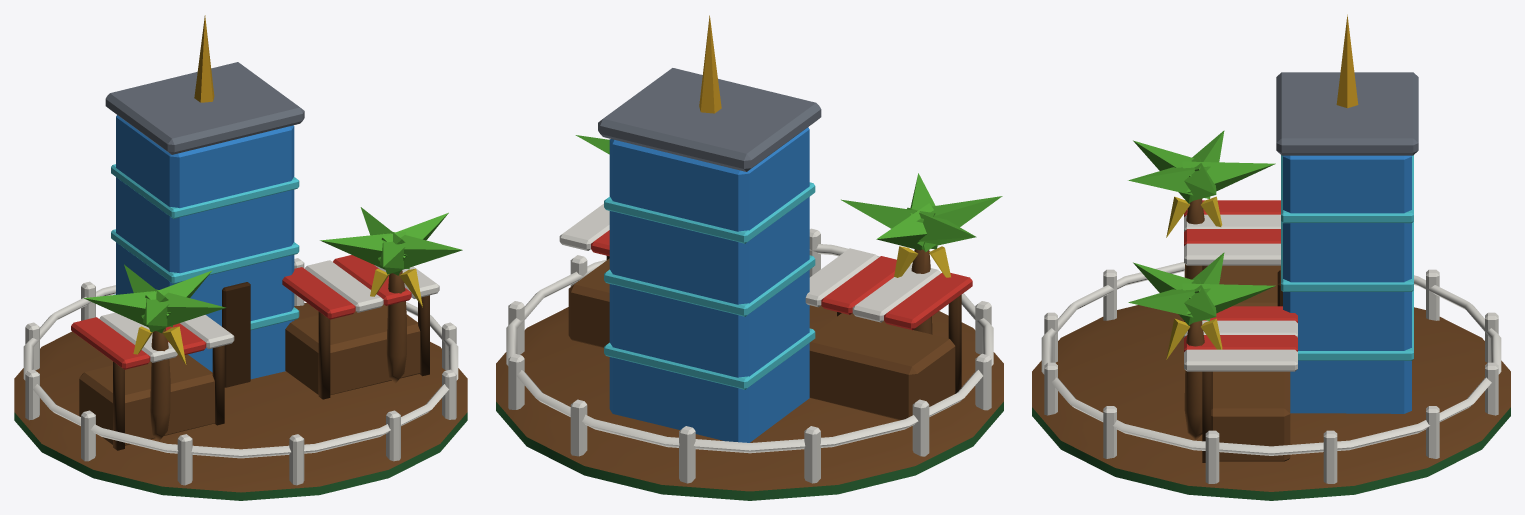
The picture shows the model from 3 angles, left to right: view 1: azimuth 30°, elevation 25°; view 2: azimuth 150°, elevation 25°; view 3: azimuth 270°, elevation 25°; orthographic projection. The views are drawn at different scales.
Parts seen in each view (by area): view 1: fazenda_0_base, fazenda_1_torreta; view 2: fazenda_0_base, fazenda_1_torreta; view 3: fazenda_0_base, fazenda_1_torreta.
Boxes of the visible parts, x1=… form: fazenda_0_base: x1=14, y1=15, x2=467, y2=500; fazenda_1_torreta: x1=83, y1=207, x2=462, y2=441; fazenda_0_base: x1=496, y1=15, x2=1003, y2=500; fazenda_1_torreta: x1=575, y1=135, x2=1002, y2=334; fazenda_0_base: x1=1032, y1=14, x2=1510, y2=500; fazenda_1_torreta: x1=1128, y1=130, x2=1275, y2=440.
Bounding box in the file's own units: 1.28 × 1.12 × 1.26.
